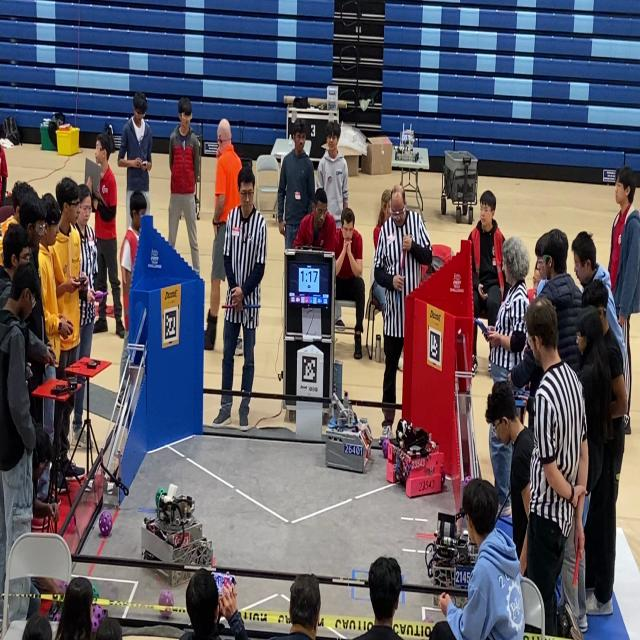artifact_green: (156, 488, 167, 507), (92, 584, 100, 601)
artifact_purple: (99, 511, 112, 536), (92, 605, 104, 632), (159, 590, 174, 606), (93, 605, 104, 621), (381, 439, 388, 459), (92, 617, 100, 632), (463, 477, 471, 490), (53, 611, 61, 622), (60, 581, 67, 593), (441, 469, 445, 490), (423, 617, 433, 623)
